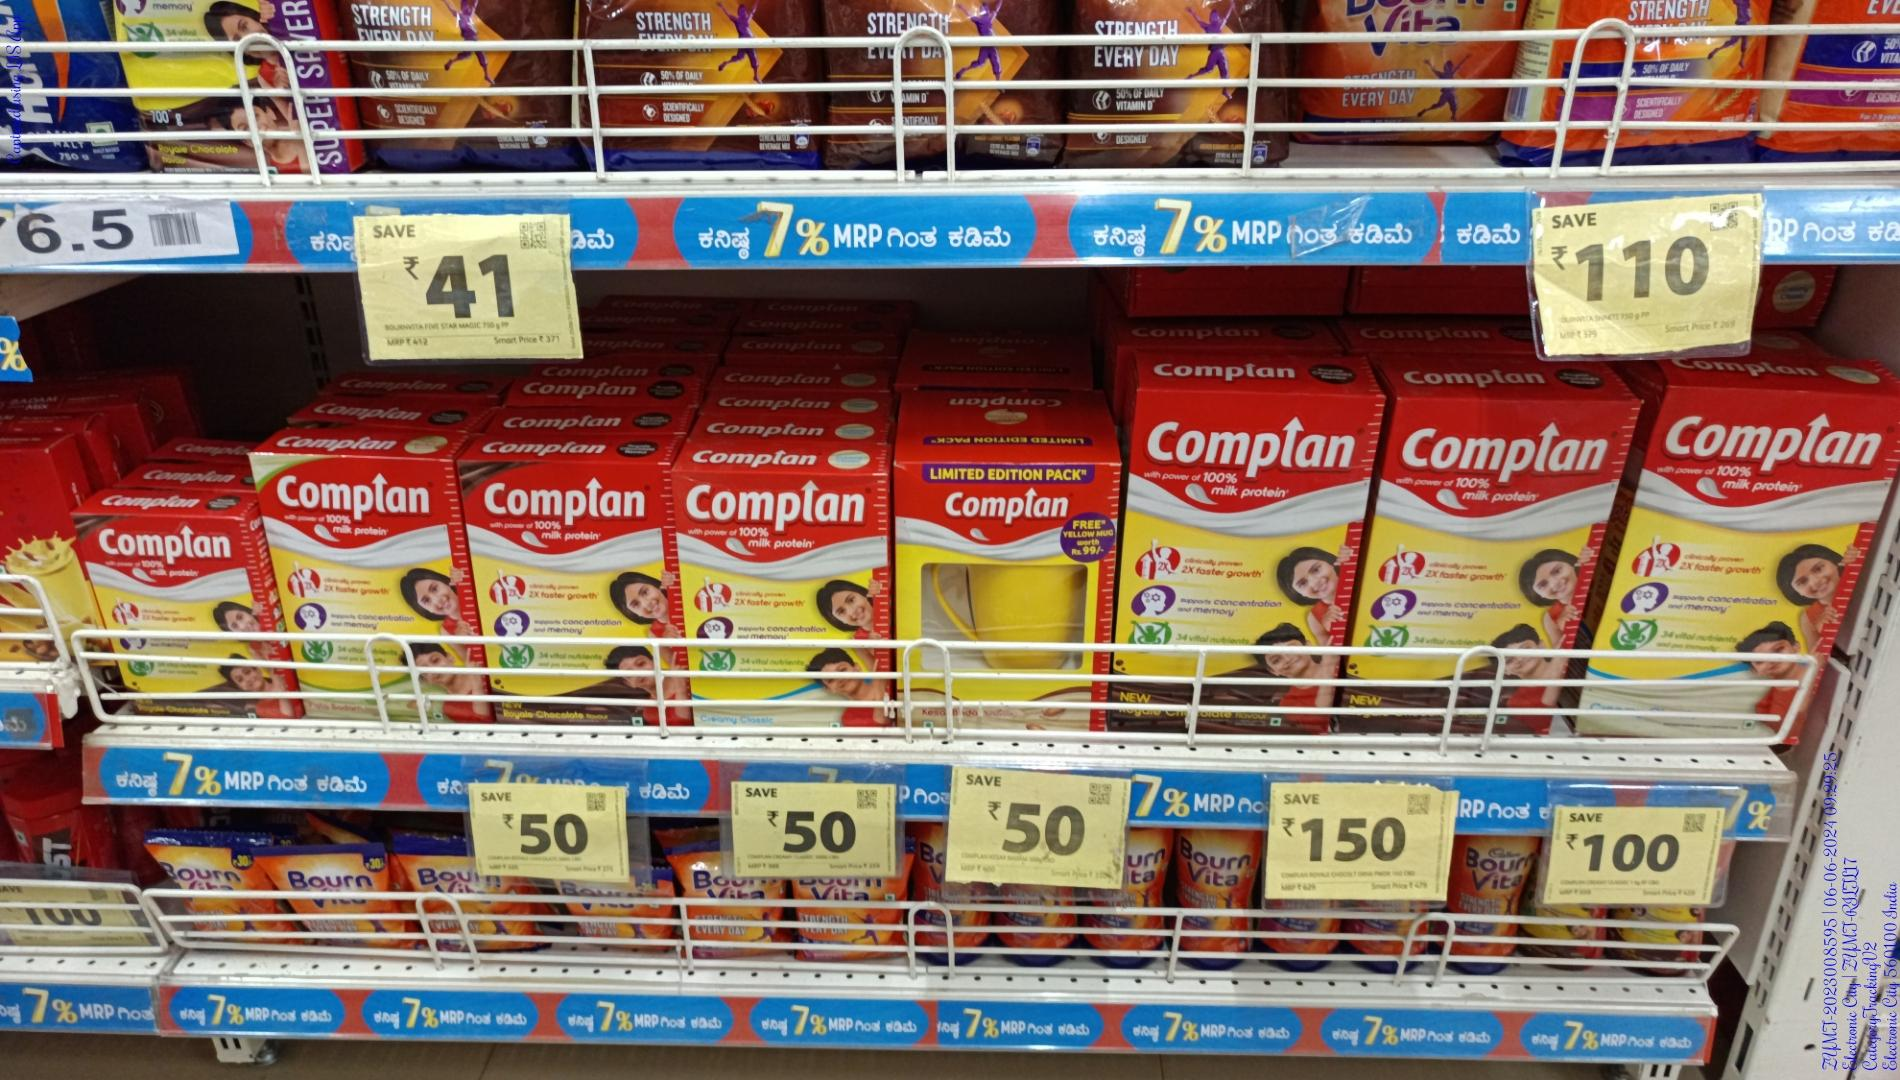COMPLAN_CHOCOLATE_1_KG_PACK: (1131, 393, 1362, 737), (1386, 394, 1602, 736)
COMPLAN_CHOCOLATE_200_GMS_PACK: (77, 511, 275, 724)
COMPLAN_CHOCOLATE_500_GMS_PACK: (467, 466, 672, 729)
COMPLAN_CREAMY_CLASSIC_500_G_PACK: (686, 472, 891, 732)
COMPLAN_KESAR_BADAM_500_GMS_PACK: (274, 459, 463, 725)
